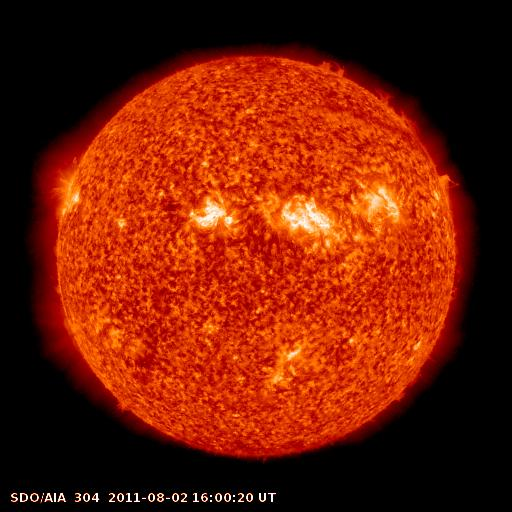prominence: (369, 79, 423, 136), (434, 166, 468, 215), (308, 52, 351, 78)
